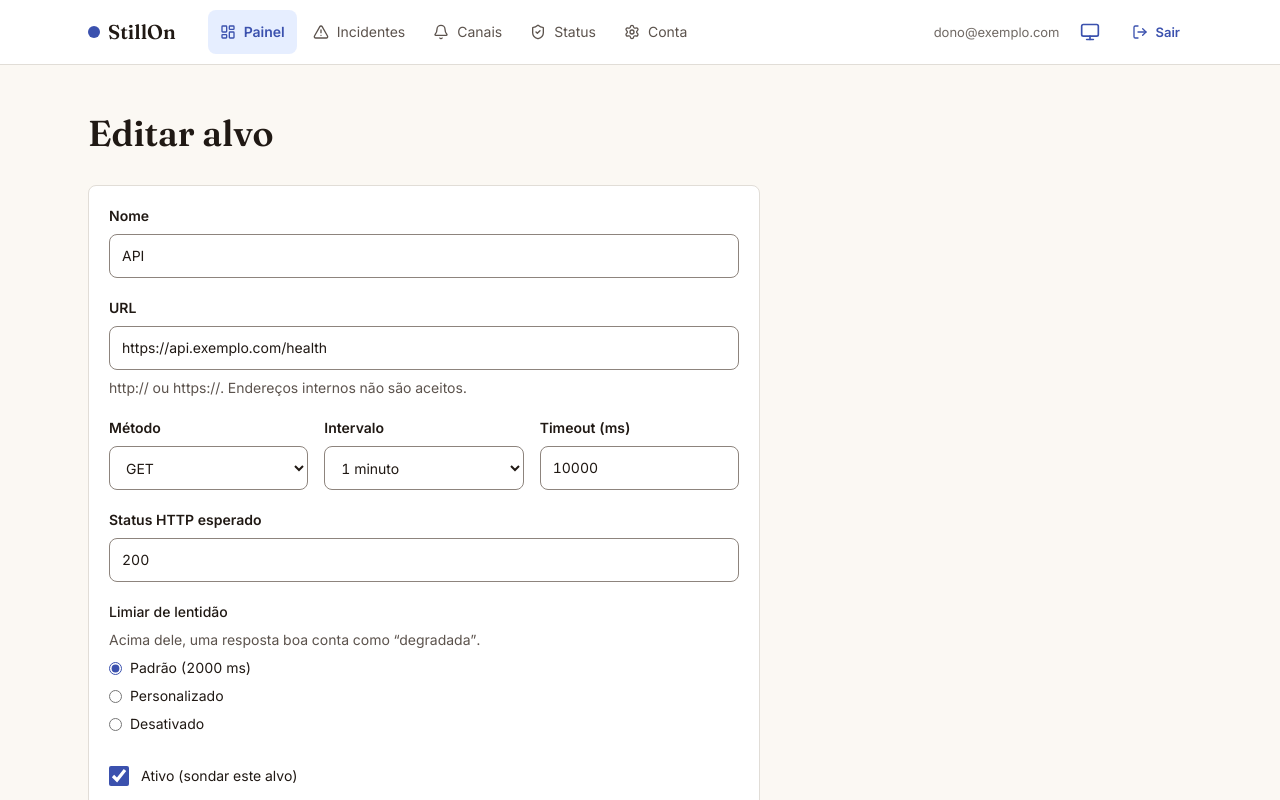
Scenario: formulário de alvo: contratos públicos complementares › field HTTP desconhecido vira aviso geral e conserva a edição, sem marcar um controle alheio
This screenshot has width=1280, height=800.
Replace the text in the field labelled "Nome" with "API editada" at x=424, y=256, box [109,234,739,278]
(page scrolled)
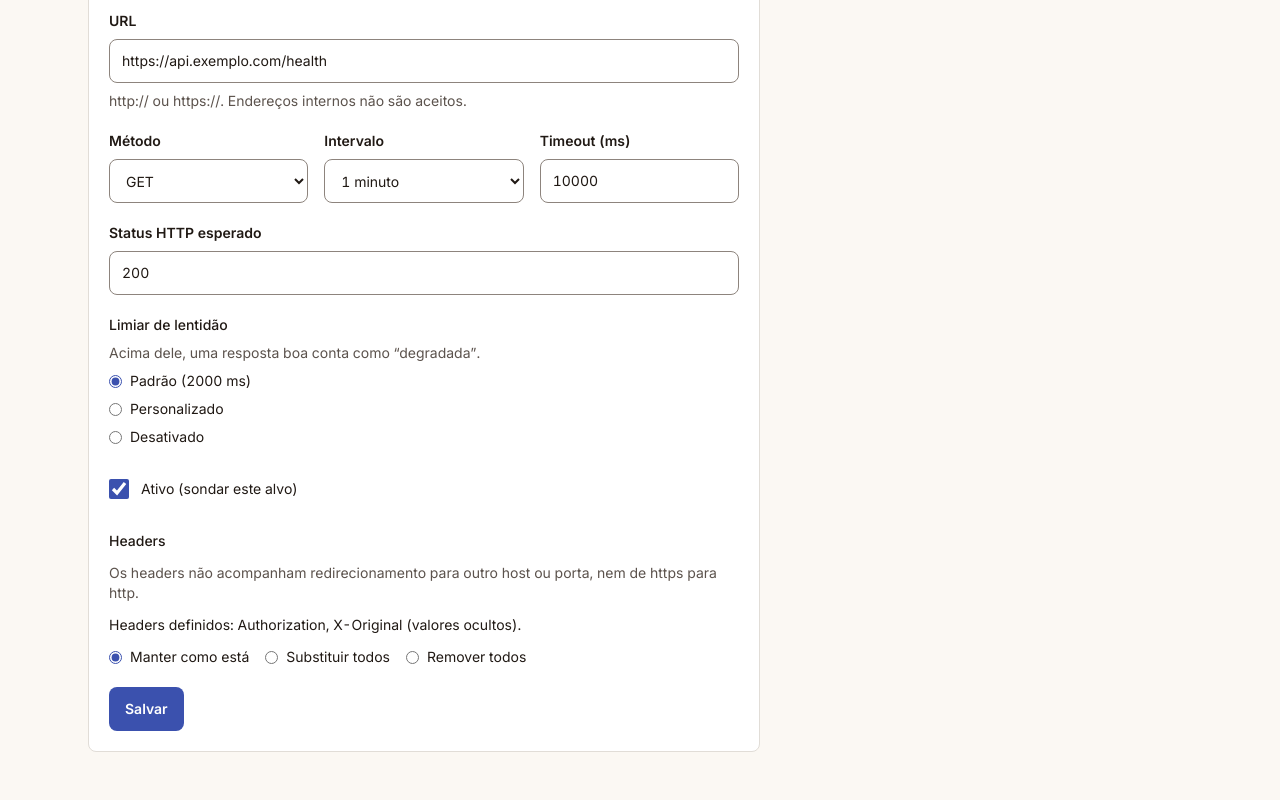
Click the button "Salvar" at x=146, y=709, box [109,687,184,731]
(page scrolled)
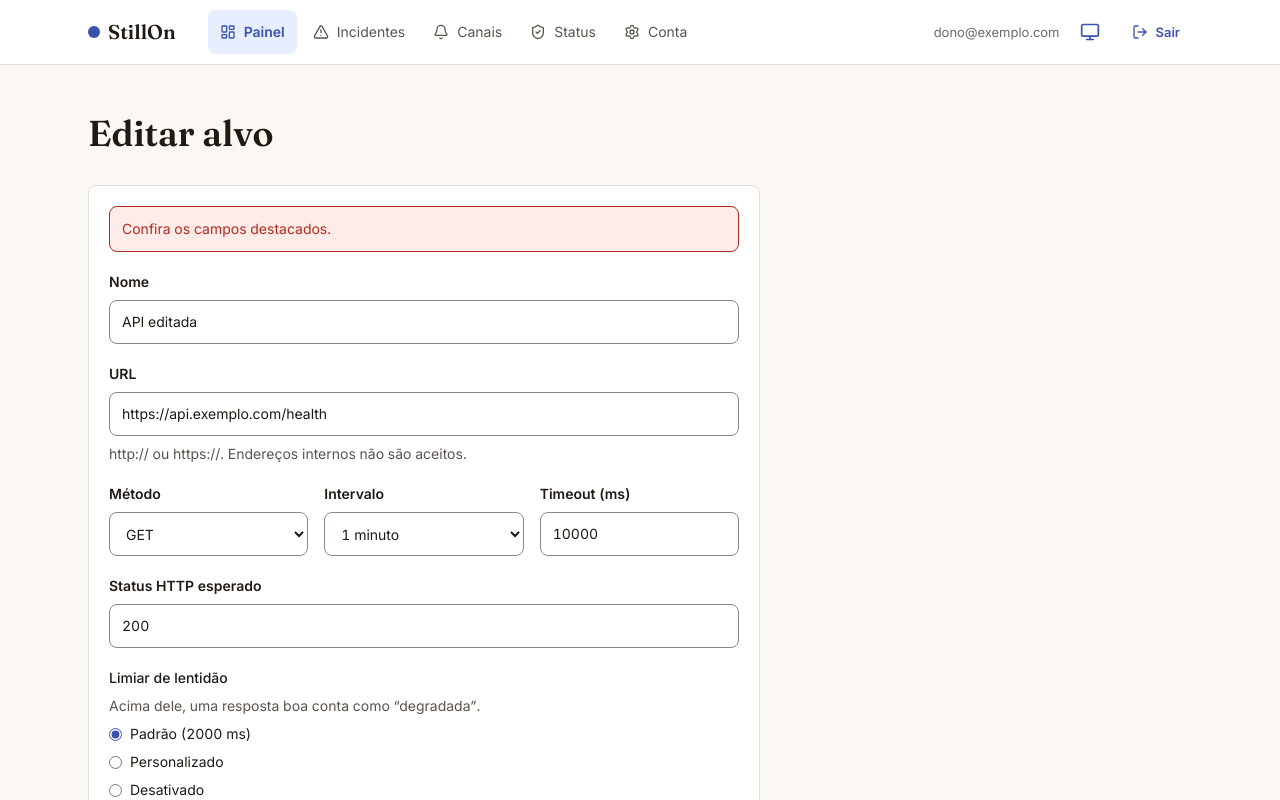
Expected: the heading "Editar alvo" is shown, [88,111,274,155]
Expected: the message reads "Confira os campos destacados.", [122,220,331,237]
